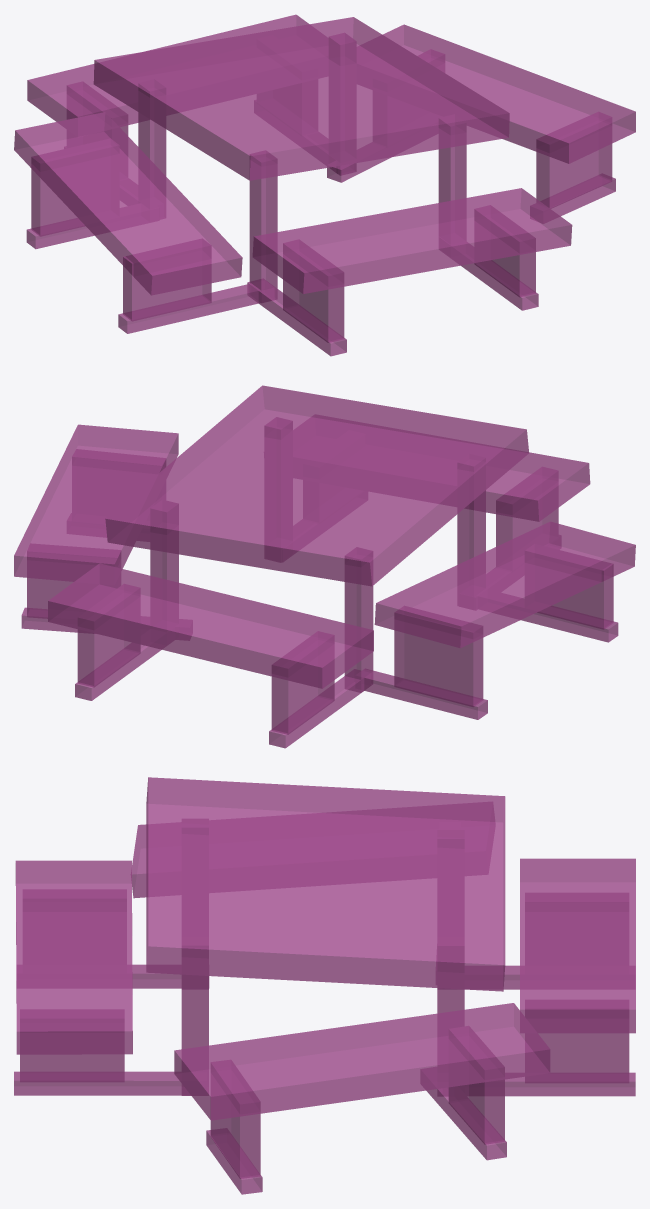
Rendered from SM_Prop_Table_05_Collision.fbx.
3 renders of one model, top to bottom at view 1: azimuth 30°, elevation 25°; view 2: azimuth 150°, elevation 25°; view 3: azimuth 270°, elevation 25°, orthographic. The views are drawn at different scales.
Visible parts, largest first — view 1: SM_Prop_Table_05_Collision; view 2: SM_Prop_Table_05_Collision; view 3: SM_Prop_Table_05_Collision.
Part boxes in pixels (<box>): SM_Prop_Table_05_Collision: <box>14,14,635,356</box>; SM_Prop_Table_05_Collision: <box>14,385,635,748</box>; SM_Prop_Table_05_Collision: <box>14,777,635,1194</box>.
Bounding box in the file's own units: 289 × 87.29 × 260.
